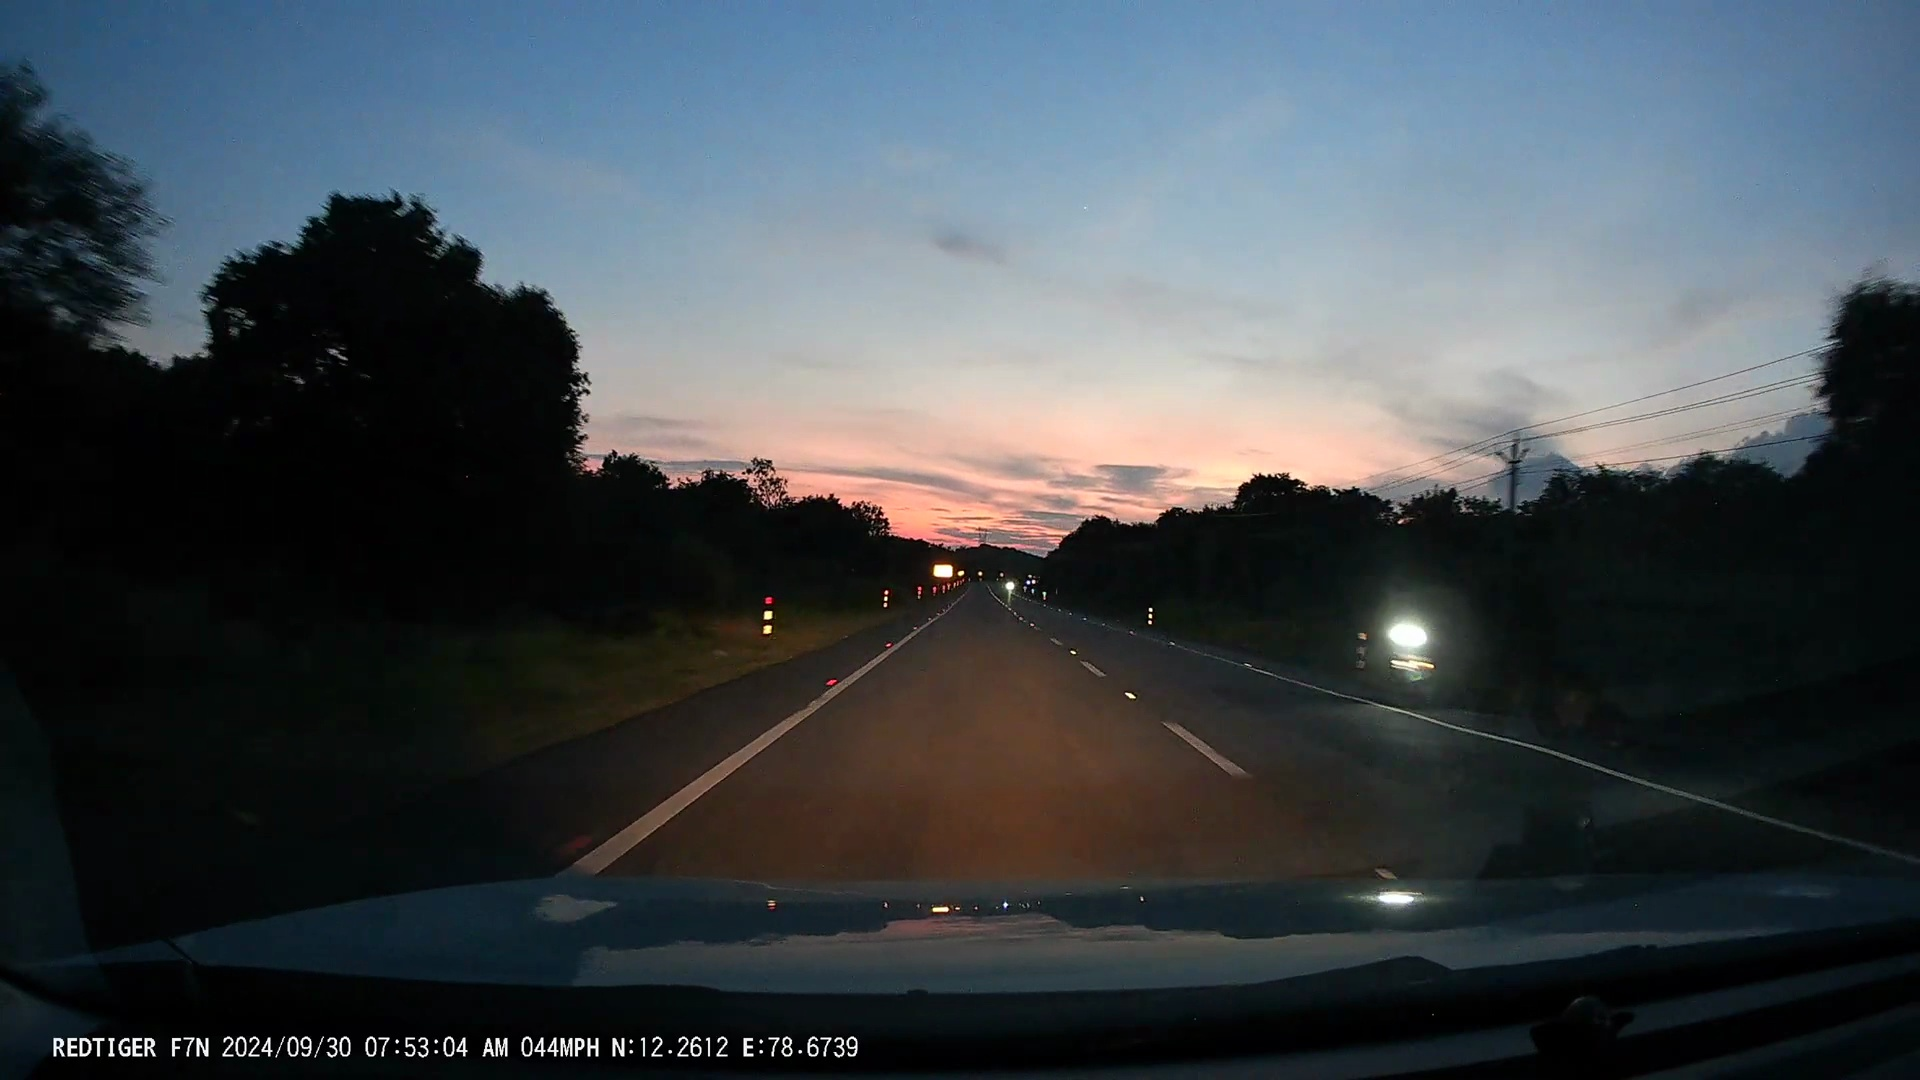headlight: (1395, 612, 1416, 659), (1005, 582, 1015, 591)
two wheeler: (1379, 596, 1443, 709), (1004, 576, 1018, 597)
